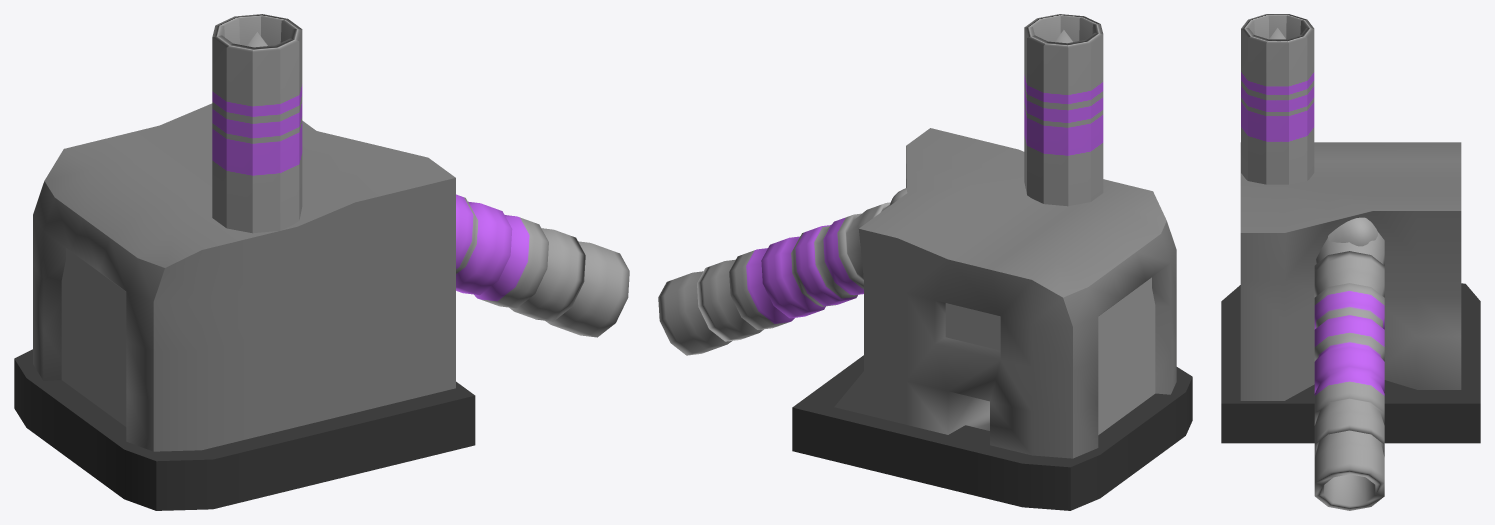
Rendered from factoryProp.fbx.
The picture shows the model from 3 angles, left to right: view 1: azimuth 30°, elevation 25°; view 2: azimuth 150°, elevation 25°; view 3: azimuth 270°, elevation 25°; orthographic projection. The views are drawn at different scales.
Visible parts, largest first — view 1: pCube3, pCube4, pCylinder4, pCylinder3, lavaPlane2; view 2: pCube3, pCube4, pCylinder3, pCylinder4, lavaPlane2, lavaPlane3; view 3: pCube3, pCylinder3, pCube4, pCylinder4, pPlane1.
Part boxes in pixels (x1,y1,x2,y2): pCube3: (33, 103, 455, 451); pCube4: (14, 349, 475, 510); pCylinder4: (212, 14, 302, 233); pCylinder3: (456, 194, 629, 337); lavaPlane2: (61, 248, 126, 426); pCube3: (834, 128, 1176, 458); pCube4: (792, 355, 1192, 510); pCylinder3: (658, 202, 890, 355); pCylinder4: (1024, 14, 1103, 206); lavaPlane2: (1098, 277, 1155, 434); lavaPlane3: (945, 303, 1000, 350); pCube3: (1240, 142, 1461, 400); pCylinder3: (1314, 232, 1384, 510); pCube4: (1221, 283, 1480, 443); pCylinder4: (1241, 14, 1314, 184); pPlane1: (1328, 217, 1377, 246).
Size of the model in its own units: 13.64 by 10.36 by 7.07.
